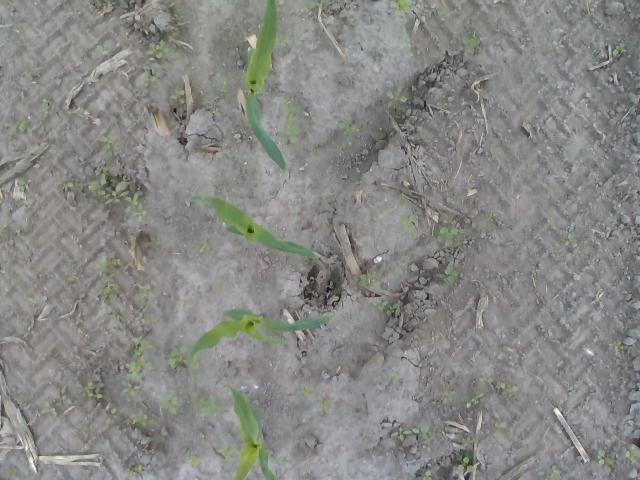Maize: (185, 308, 335, 384), (190, 194, 320, 260), (241, 1, 288, 174), (217, 381, 279, 480)
Weeds: (87, 167, 146, 223), (120, 336, 154, 400), (94, 256, 122, 304), (280, 98, 306, 146), (433, 212, 466, 247), (192, 390, 224, 418), (112, 311, 146, 336), (391, 424, 434, 442), (367, 296, 398, 320), (158, 391, 184, 418), (164, 342, 189, 370), (128, 410, 162, 430), (594, 446, 617, 474), (384, 86, 411, 108), (145, 39, 170, 62), (317, 390, 338, 416), (440, 262, 460, 288), (336, 118, 361, 138), (78, 382, 107, 399), (398, 214, 419, 237), (142, 64, 162, 88), (102, 134, 120, 160), (217, 442, 240, 462), (464, 32, 482, 57), (52, 384, 72, 406), (136, 282, 156, 304), (5, 120, 32, 136), (456, 452, 476, 472), (356, 271, 377, 290), (168, 83, 185, 105), (390, 0, 413, 16), (214, 73, 230, 96), (492, 420, 510, 439), (624, 444, 640, 463), (126, 462, 145, 478), (60, 177, 78, 193), (544, 464, 561, 480), (185, 454, 204, 468), (105, 406, 119, 424), (306, 144, 321, 160), (500, 382, 520, 394), (14, 178, 34, 190), (607, 337, 624, 351), (192, 238, 208, 252), (296, 384, 313, 397), (37, 96, 49, 114), (142, 238, 160, 250), (46, 398, 58, 415), (388, 369, 401, 384), (304, 110, 320, 122), (612, 41, 624, 57), (67, 271, 78, 288), (439, 392, 457, 402), (469, 394, 482, 406), (225, 30, 238, 42), (462, 436, 474, 449), (0, 230, 15, 240), (550, 40, 565, 50), (22, 199, 33, 212), (478, 375, 492, 385), (398, 195, 408, 209), (72, 313, 84, 324), (215, 279, 226, 291), (166, 32, 179, 42), (183, 294, 196, 304), (565, 232, 578, 242), (278, 455, 290, 465), (306, 0, 321, 8), (422, 469, 432, 480), (98, 47, 110, 56), (210, 104, 220, 114), (24, 71, 33, 81), (407, 47, 416, 57), (38, 352, 48, 360), (94, 0, 103, 8), (487, 212, 494, 222), (152, 0, 160, 4)
